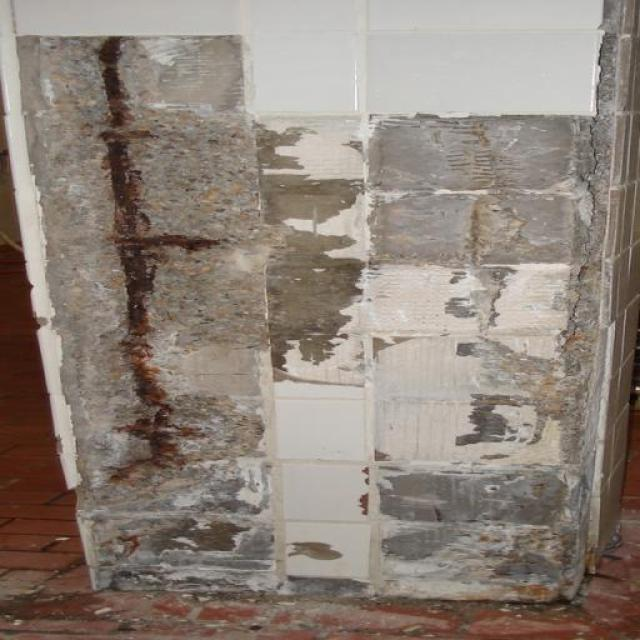D0w0: (19, 36, 278, 590)
